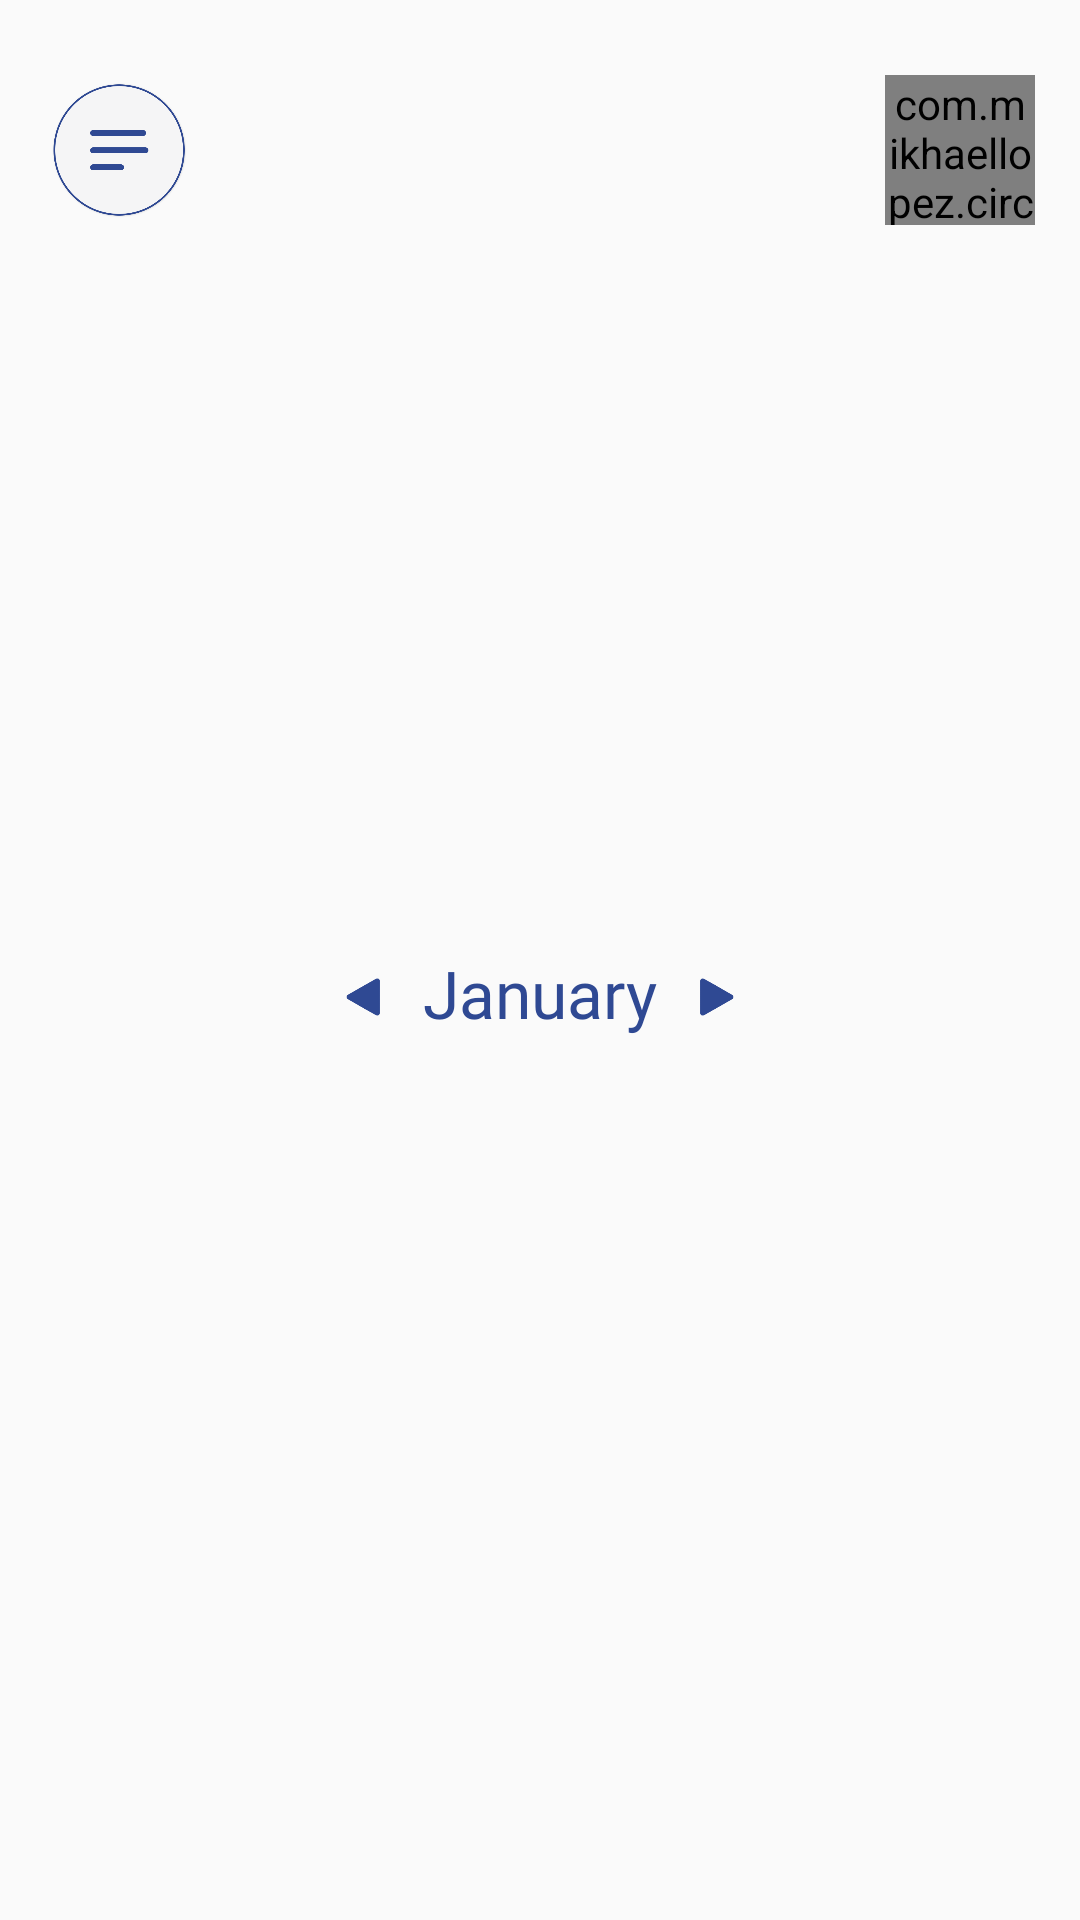

Icons on this 1080px×1920px Android screen, each with the point to tap as [x,y]:
drawer: [119,150]
